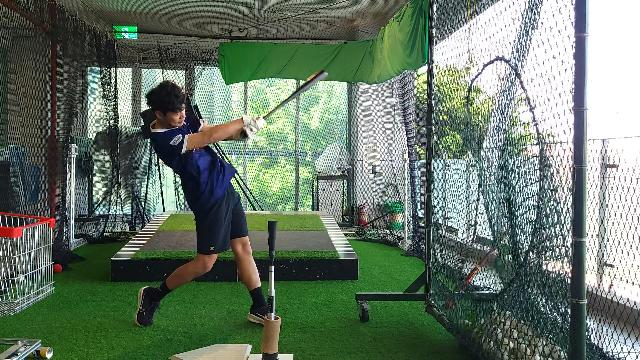bat: (262, 68, 328, 121)
